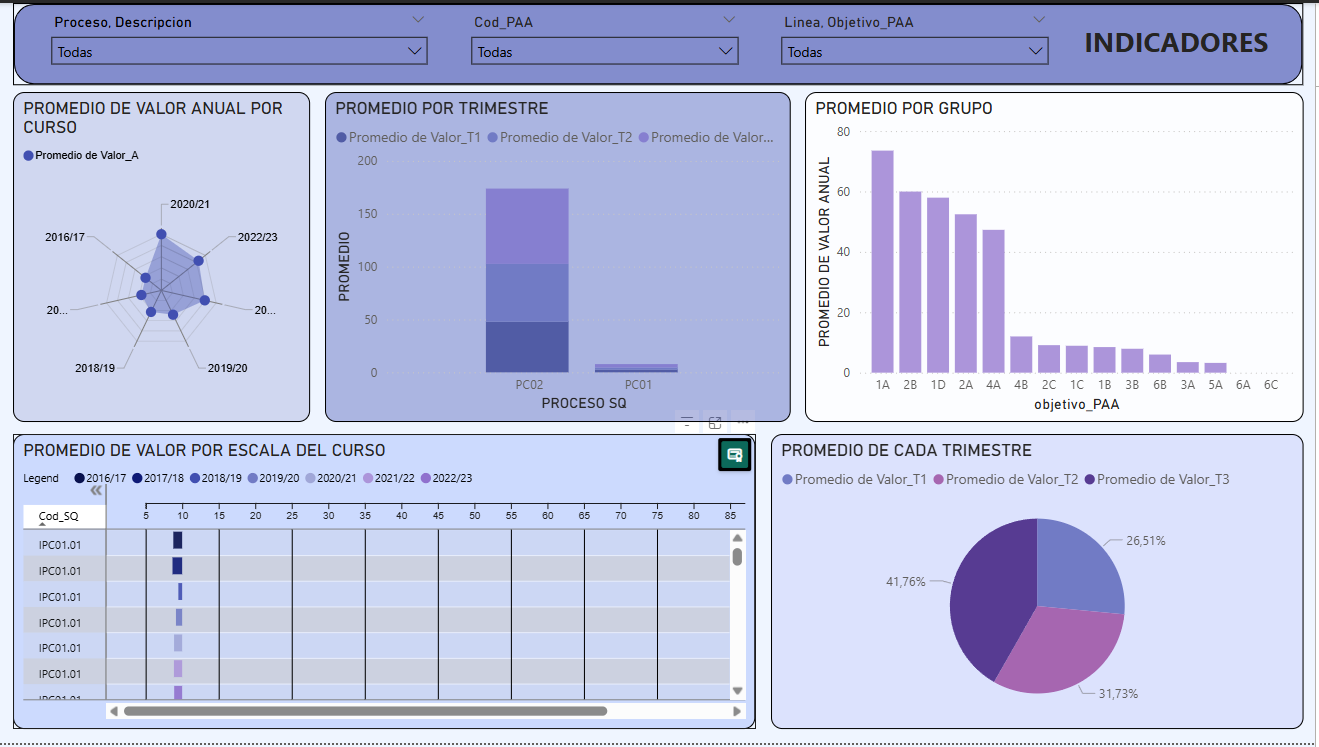

This screenshot's page, from the dashboard's own definition file:
{"tool":"powerbi","page":{"name":"Página 2","canvas":[1280,720],"ordinal":1},"visuals":[{"type":"shape","box":[14,0,1255,80],"z":0},{"type":"slicer","fields":{"Values":["institutos_itaca PAA.Cod_PAA"]},"box":[449,5,280,69],"z":1000},{"type":"slicer","fields":{"Values":["institutos_itaca Procesos.Proceso","institutos_itaca Procesos.Descripcion"]},"box":[41,5,386,69],"z":2000},{"type":"slicer","fields":{"Values":["institutos_itaca Objetivos.Linea","institutos_itaca Objetivos.Objetivo_PAA"]},"box":[751,5,280,69],"z":3000},{"type":"RadarChart1446119667547","title":"PROMEDIO DE VALOR ANUAL POR CURSO","fields":{"Y":["Avg(institutos_itaca PAA.Valor_A)"],"Category":["institutos_itaca PAA.Curso"]},"box":[14,87,289,321],"z":4000},{"type":"GanttChartByMAQSoftware1448688115701","title":"PROMEDIO DE VALOR POR ESCALA DEL CURSO","fields":{"StartDate":["Avg(institutos_itaca SQ_Anual.Valor_A)"],"EndDate":["Avg(institutos_itaca SQ_Anual.Escala)"],"Category":["institutos_itaca SQ_Anual.Cod_SQ"],"Legend":["institutos_itaca SQ_Anual.Curso"]},"box":[14,419,722,287],"z":5000},{"type":"clusteredColumnChart","title":"PROMEDIO POR GRUPO","fields":{"Y":["Avg(institutos_itaca PAA.Valor_A)"],"Category":["institutos_itaca PAA.objetivo_PAA"]},"box":[784,87,485,321],"z":6000},{"type":"pieChart","title":"PROMEDIO DE CADA TRIMESTRE","fields":{"Y":["Avg(institutos_itaca SQ_Trimestral.Valor_T1)","Avg(institutos_itaca SQ_Trimestral.Valor_T2)","Avg(institutos_itaca SQ_Trimestral.Valor_T3)"]},"box":[751,419,518,287],"z":7000},{"type":"columnChart","title":"PROMEDIO POR TRIMESTRE","fields":{"Y":["Avg(institutos_itaca SQ_Trimestral.Valor_T1)","Avg(institutos_itaca SQ_Trimestral.Valor_T2)","Avg(institutos_itaca SQ_Trimestral.Valor_T3)"],"Category":["institutos_itaca SQ_Trimestral.proceso_SQ"]},"box":[317,87,453,321],"z":8000},{"type":"textbox","box":[1050,14,209,51],"z":9000}]}

Visuals, with their boxes in screenshot pixels (x1, y1, x2, y2), scaled from the page's 1280x720 canvas onto the 1319x747 screenshot:
shape: x1=14 y1=0 x2=1308 y2=83
slicer - institutos_itaca PAA.Cod_PAA: x1=463 y1=5 x2=751 y2=77
slicer - institutos_itaca Procesos.Proceso x institutos_itaca Procesos.Descripcion: x1=42 y1=5 x2=440 y2=77
slicer - institutos_itaca Objetivos.Linea x institutos_itaca Objetivos.Objetivo_PAA: x1=774 y1=5 x2=1062 y2=77
"PROMEDIO DE VALOR ANUAL POR CURSO" RadarChart1446119667547: x1=14 y1=90 x2=312 y2=423
"PROMEDIO DE VALOR POR ESCALA DEL CURSO" GanttChartByMAQSoftware1448688115701: x1=14 y1=435 x2=758 y2=732
"PROMEDIO POR GRUPO" clusteredColumnChart: x1=808 y1=90 x2=1308 y2=423
"PROMEDIO DE CADA TRIMESTRE" pieChart: x1=774 y1=435 x2=1308 y2=732
"PROMEDIO POR TRIMESTRE" columnChart: x1=327 y1=90 x2=793 y2=423
textbox: x1=1082 y1=15 x2=1297 y2=67
